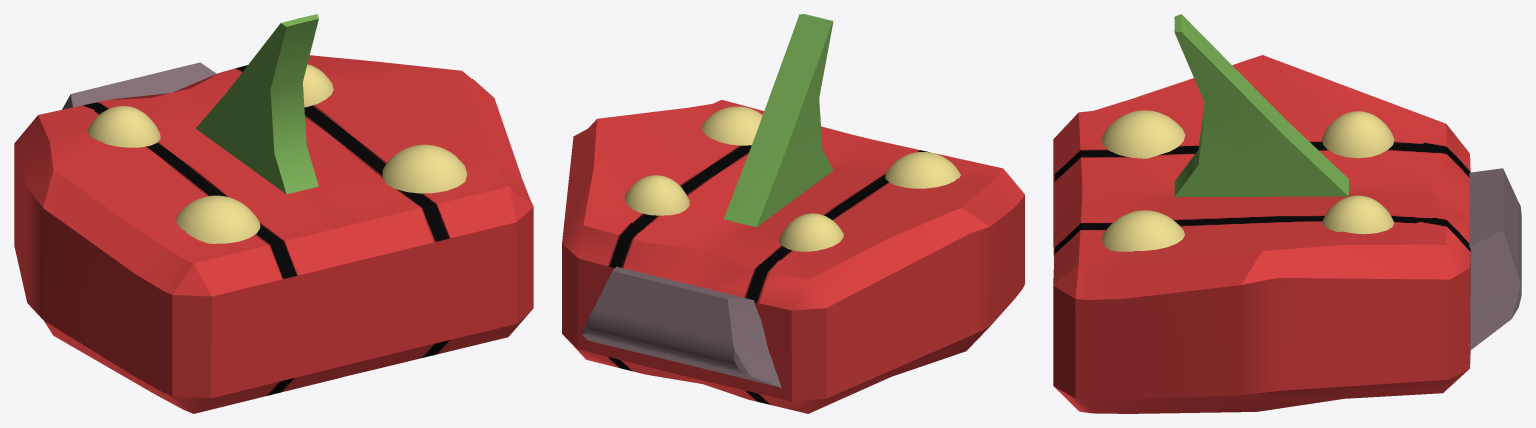
The model's file is wormbody.fbx.
3 views of the same model, side by side, from view 1: azimuth 30°, elevation 25°; view 2: azimuth 150°, elevation 25°; view 3: azimuth 270°, elevation 25° (orthographic). The views are drawn at different scales.
Visible parts, largest first — view 1: polySurface8; view 2: polySurface8; view 3: polySurface8.
Part boxes in pixels (bbox=[...]): polySurface8: bbox=[14, 14, 533, 413]; polySurface8: bbox=[562, 14, 1024, 413]; polySurface8: bbox=[1053, 14, 1521, 413].
Size of the model in its own units: 5.62 by 3.81 by 5.14.
